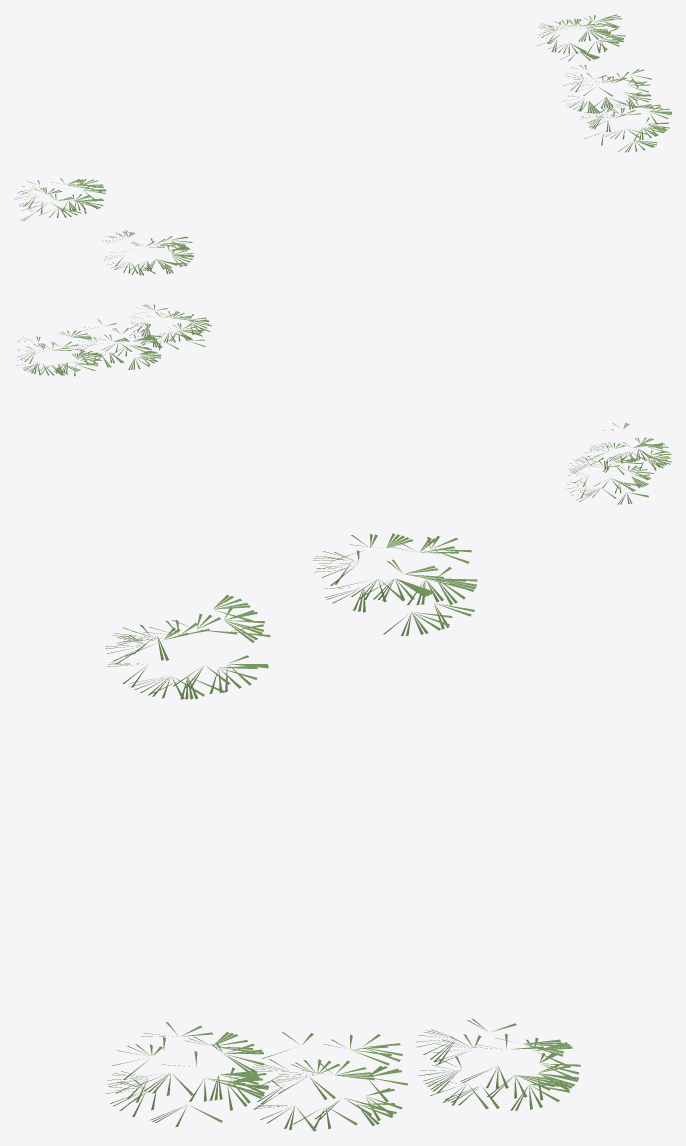
File: teaching3-vegetation-16-near.glb
3 views of the same model, one above another, from view 1: azimuth 30°, elevation 25°; view 2: azimuth 150°, elevation 25°; view 3: azimuth 270°, elevation 25° (orthographic). The views are drawn at different scales.
Parts seen in each view (by area): view 1: vegetation palm fan.003; view 2: vegetation palm fan.003; view 3: vegetation palm fan.003.
Part boxes in pixels (bbox=[...]): vegetation palm fan.003: bbox=[14, 14, 671, 275]; vegetation palm fan.003: bbox=[16, 304, 671, 504]; vegetation palm fan.003: bbox=[105, 533, 580, 1131].
Size of the model in its own units: 40.44 by 3.44 by 13.79.
